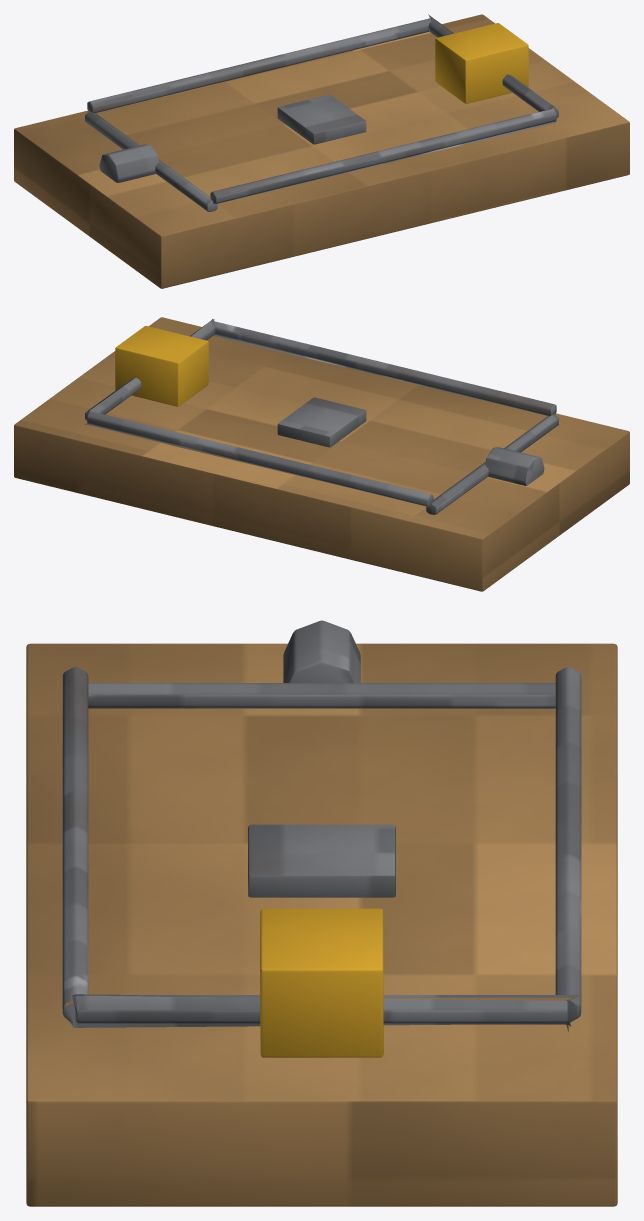
File: prop_mousetrap.glb
3 views of the same model, one above another, from view 1: azimuth 30°, elevation 25°; view 2: azimuth 150°, elevation 25°; view 3: azimuth 270°, elevation 25° (orthographic). The views are drawn at different scales.
Visible parts, largest first — view 1: prop_mousetrap; view 2: prop_mousetrap; view 3: prop_mousetrap.
Boxes of the visible parts, x1,y1,x2,y2 form: prop_mousetrap: [14, 14, 629, 288]; prop_mousetrap: [14, 317, 629, 591]; prop_mousetrap: [26, 620, 617, 1206].
Bounding box in the file's own units: 0.22 × 0.044 × 0.12.
Materials: 3 (3 with a texture image).
